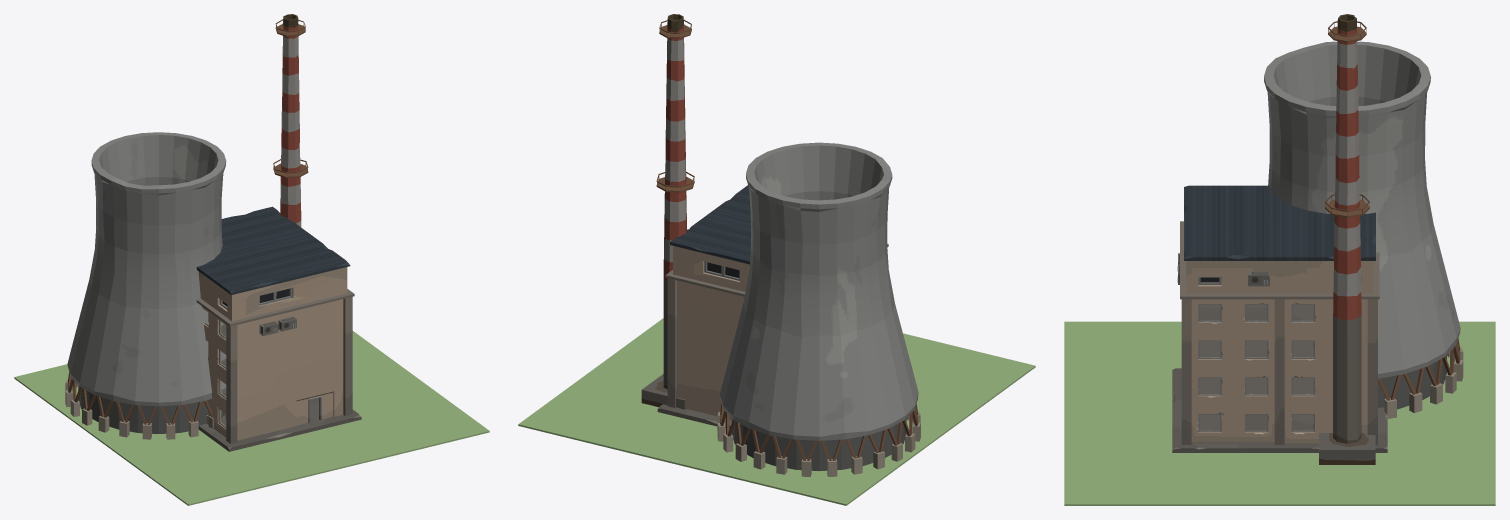
Rendered from coal-power-plant.glb.
3 views of the same model, side by side, from view 1: azimuth 30°, elevation 25°; view 2: azimuth 150°, elevation 25°; view 3: azimuth 270°, elevation 25° (orthographic). The views are drawn at different scales.
Visible parts, largest first — view 1: CoalPlant_CoolingTower, CoalPlant_Main, Ground, CoalPlant_Stack; view 2: CoalPlant_CoolingTower, Ground, CoalPlant_Main, CoalPlant_Stack; view 3: Ground, CoalPlant_Main, CoalPlant_CoolingTower, CoalPlant_Stack.
Boxes of the visible parts, x1=… form: CoalPlant_CoolingTower: x1=65, y1=132, x2=226, y2=439; CoalPlant_Main: x1=196, y1=206, x2=361, y2=451; Ground: x1=14, y1=331, x2=489, y2=505; CoalPlant_Stack: x1=273, y1=14, x2=308, y2=227; CoalPlant_CoolingTower: x1=717, y1=142, x2=920, y2=477; Ground: x1=518, y1=318, x2=1035, y2=505; CoalPlant_Main: x1=657, y1=185, x2=888, y2=429; CoalPlant_Stack: x1=641, y1=14, x2=694, y2=409; Ground: x1=1064, y1=321, x2=1495, y2=505; CoalPlant_Main: x1=1172, y1=185, x2=1387, y2=452; CoalPlant_CoolingTower: x1=1264, y1=41, x2=1463, y2=418; CoalPlant_Stack: x1=1319, y1=14, x2=1375, y2=464.
Bounding box in the file's own units: 32 × 35.73 × 32.
Materials: 2 (1 with a texture image).
